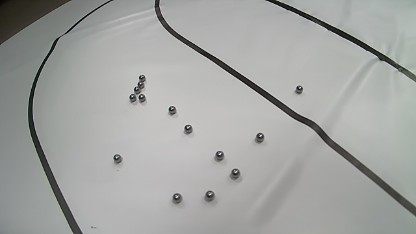ironball: (172, 193, 182, 203), (214, 150, 224, 160), (205, 190, 214, 201), (231, 168, 240, 179), (255, 132, 264, 142), (184, 124, 193, 133), (113, 154, 122, 163), (168, 105, 176, 114), (295, 85, 303, 93), (138, 94, 145, 102), (129, 94, 136, 102), (133, 86, 140, 94), (137, 81, 144, 89), (138, 74, 145, 81), (398, 66, 403, 72)
